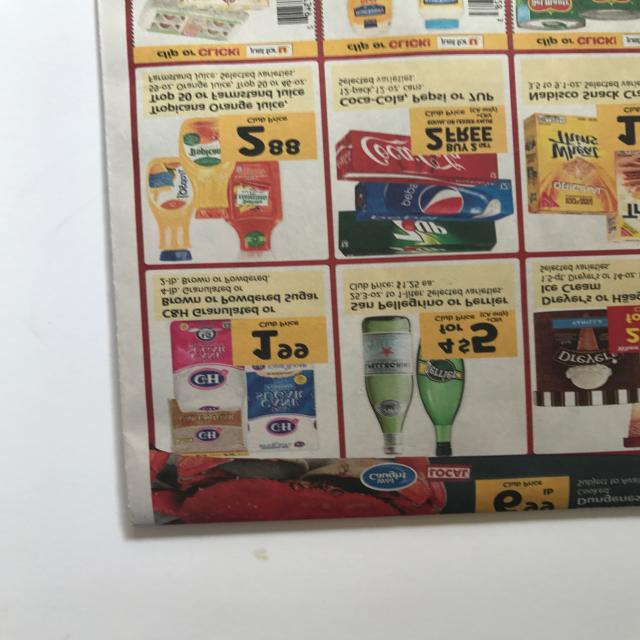paper: (80, 0, 640, 546)
